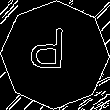P_S: (36, 29, 74, 81)
